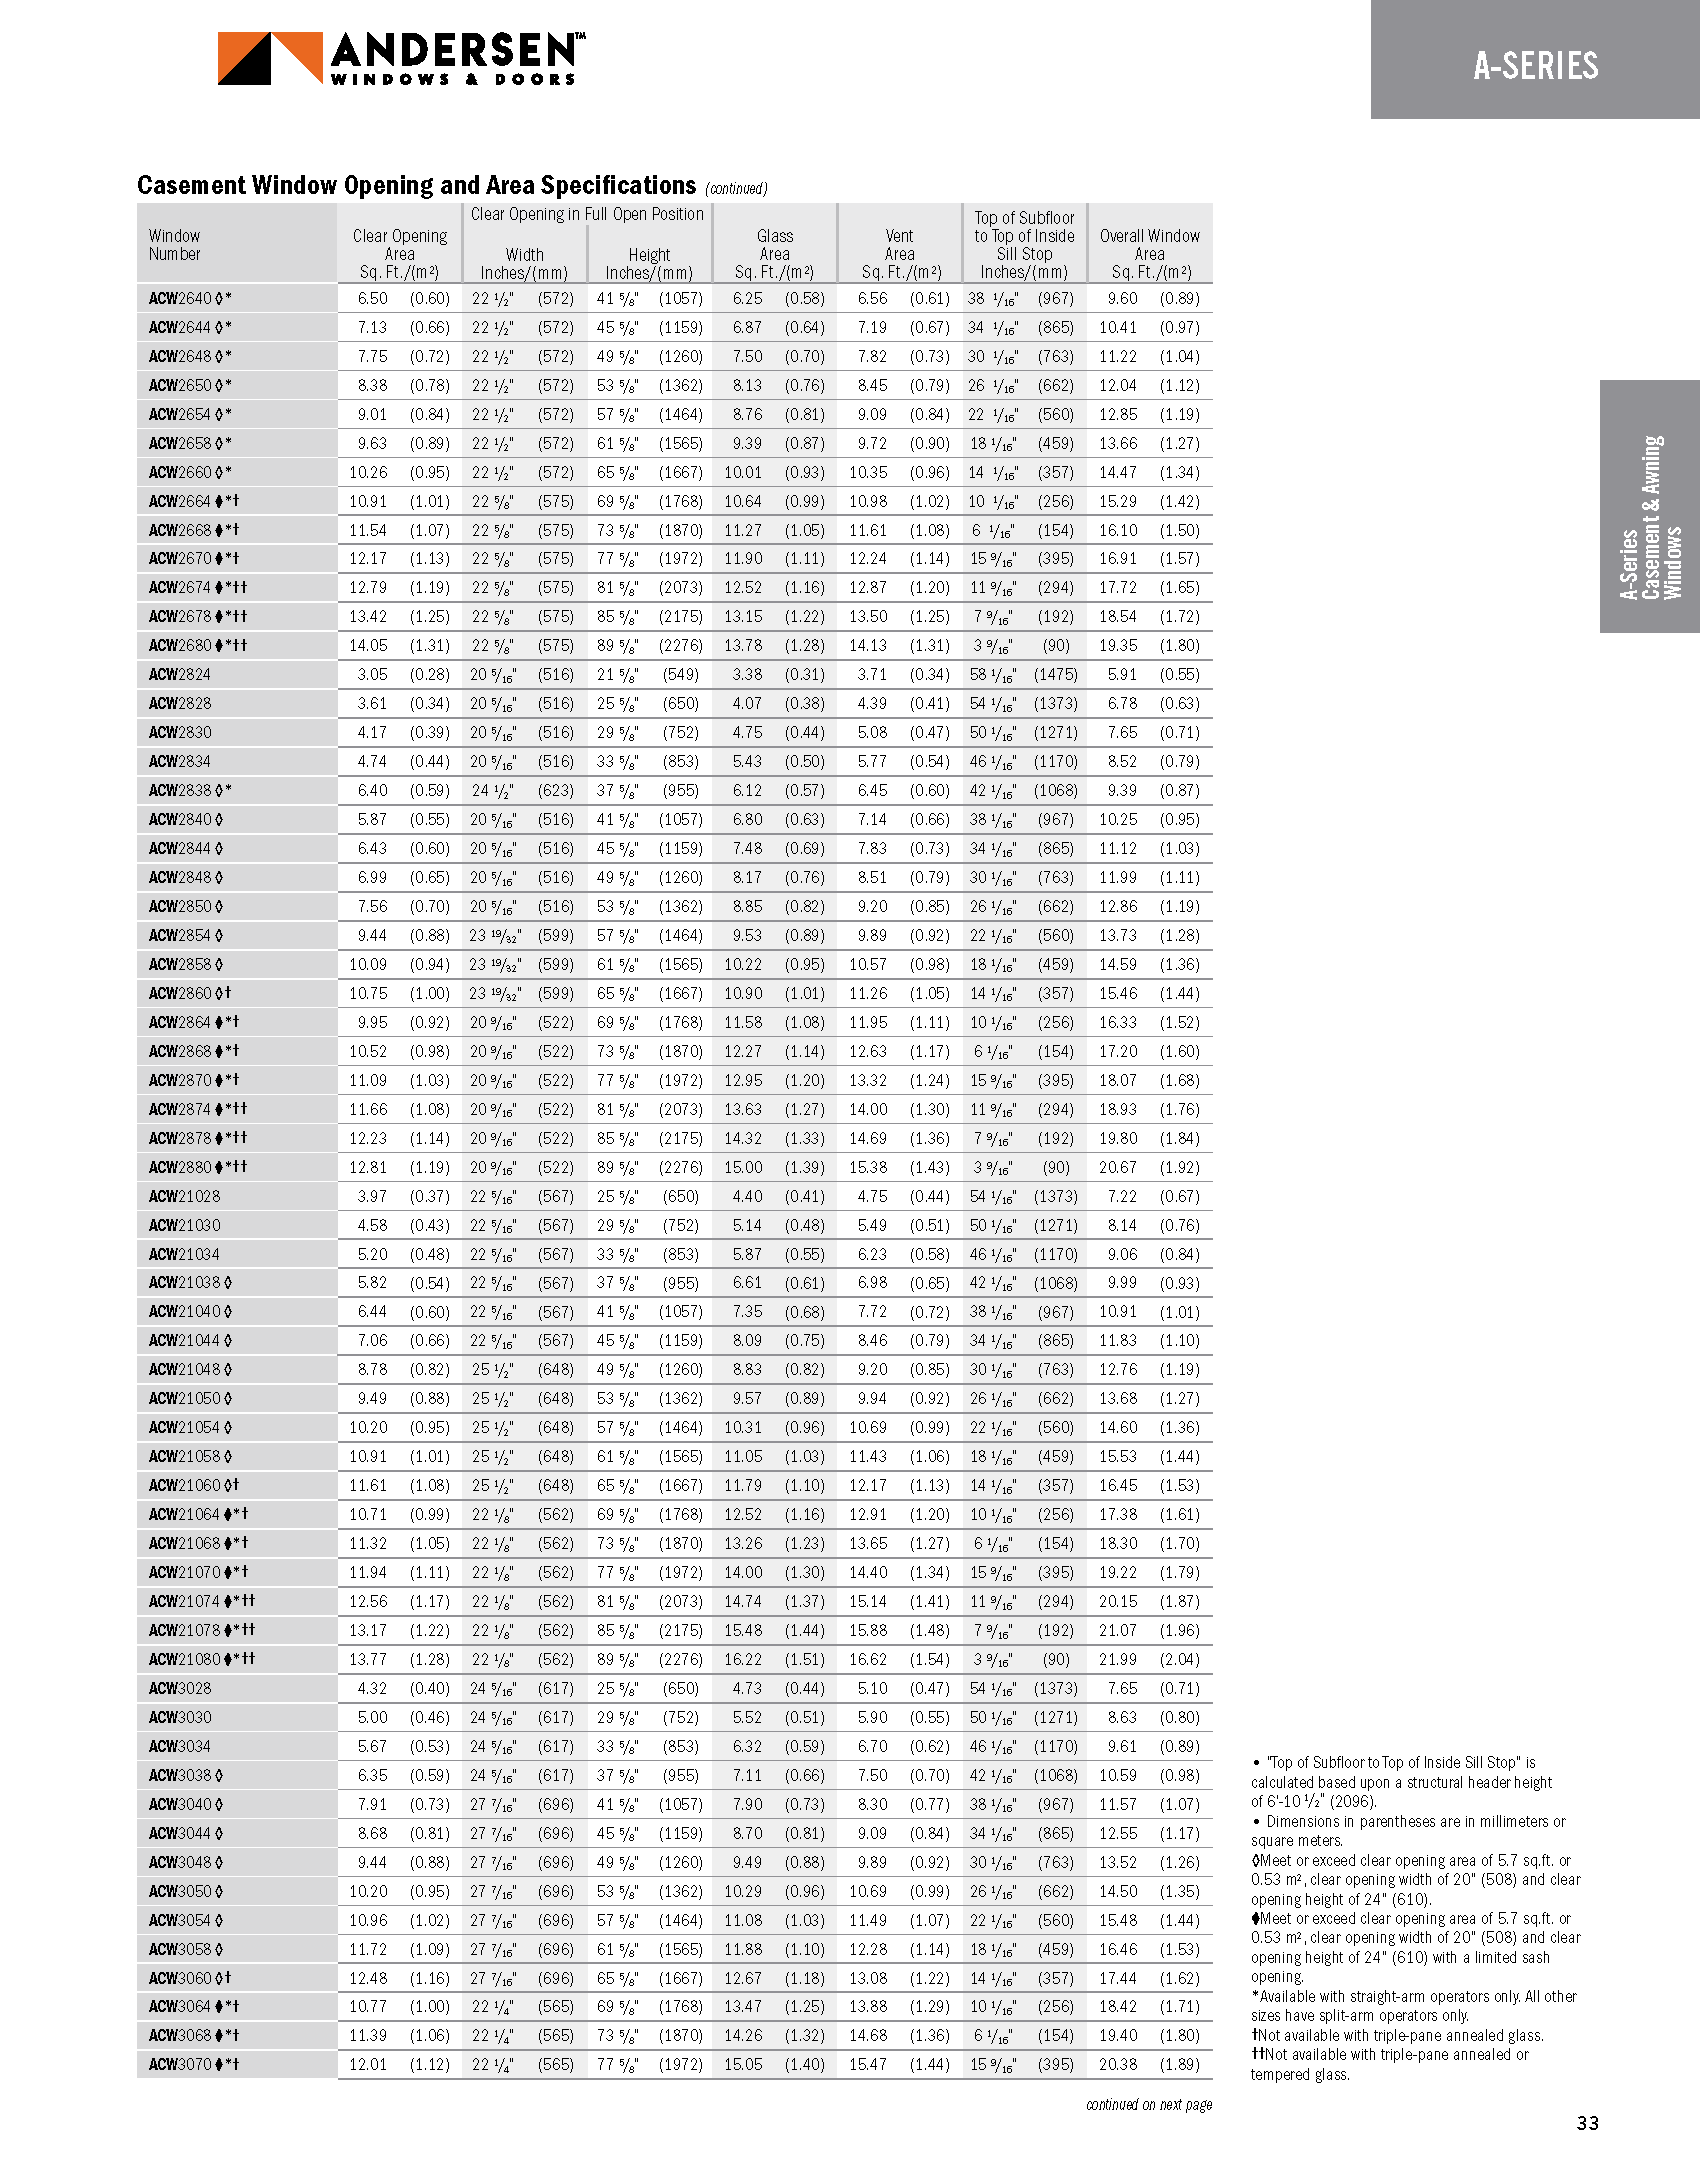tabledetected: (141, 198, 1216, 2081)
